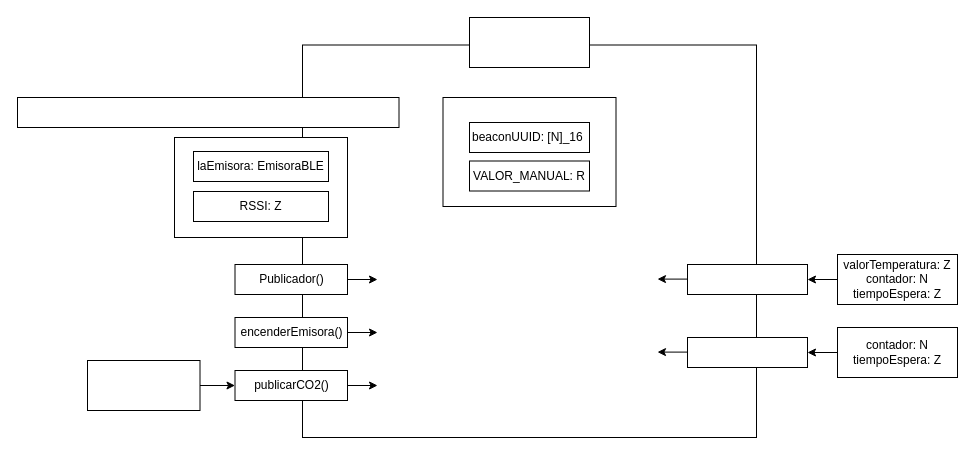
This 975x455 diagram has some shape labels left out. The shapes that lost their labels are listed below. From the top down, each one's centre as x and y in pixels, then its label:
At (x=529, y=42): "Publicador".
At (x=207, y=112): "MedicionesID= {C02=11, TEMPERATURA=12, RUIDO=13}".
At (x=747, y=279): "publicarTemperatura()".
At (x=747, y=352): "publicarManual()".
At (x=143, y=385): "valorCO2: Z contador: N tiempoEspera: Z".
